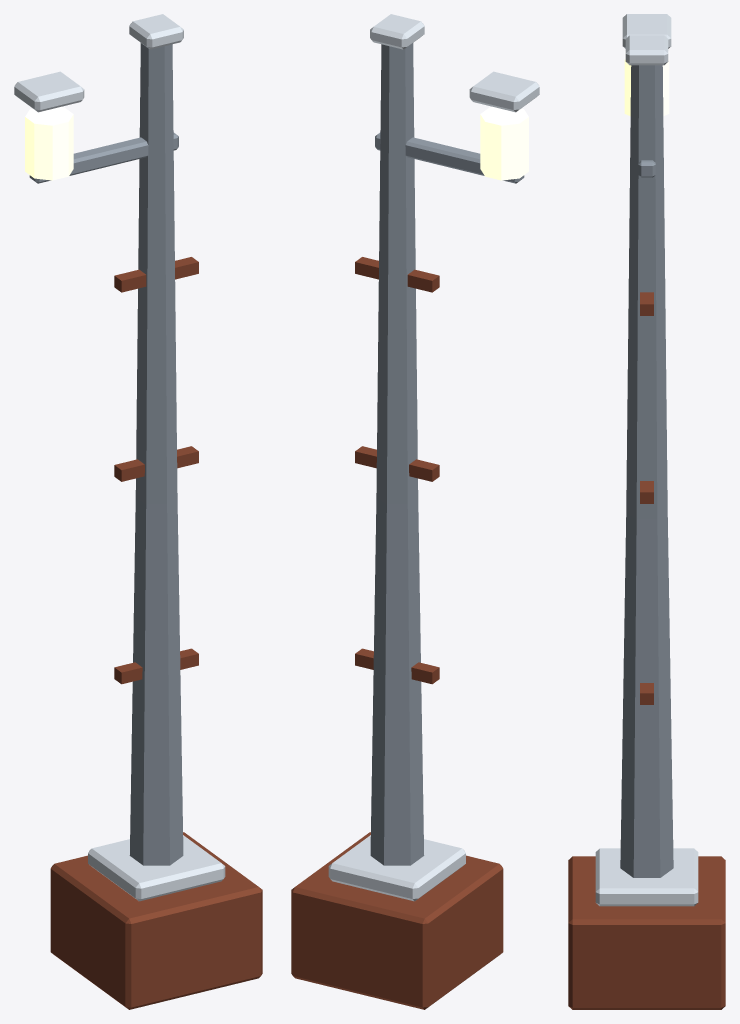
Rendered from Frontier_Prop_SignalMast.fbx.
3 renders of one model, left to right at view 1: azimuth 30°, elevation 25°; view 2: azimuth 150°, elevation 25°; view 3: azimuth 270°, elevation 25°, orthographic.
Parts seen in each view (by area): view 1: Frontier_Prop_SignalMast; view 2: Frontier_Prop_SignalMast; view 3: Frontier_Prop_SignalMast.
Boxes of the visible parts, <box> form: Frontier_Prop_SignalMast: <box>14,14,262,1009</box>; Frontier_Prop_SignalMast: <box>291,14,539,1009</box>; Frontier_Prop_SignalMast: <box>568,14,725,1009</box>.
Size of the model in its own units: 161 by 722 by 110.
